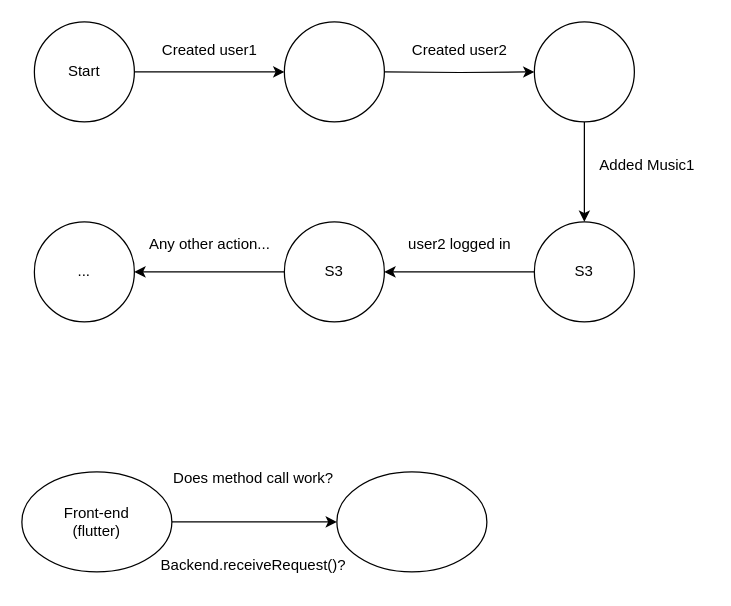
This 731x606 diagram has some shape labels left out. The shapes that lost their labels are listed below. From the top down, each one's box as (x1, y1, x2, y2) in pixels, then its label:
(283, 21, 384, 122): S1
(533, 21, 634, 122): S2
(336, 471, 487, 572): Back-end (Java)
